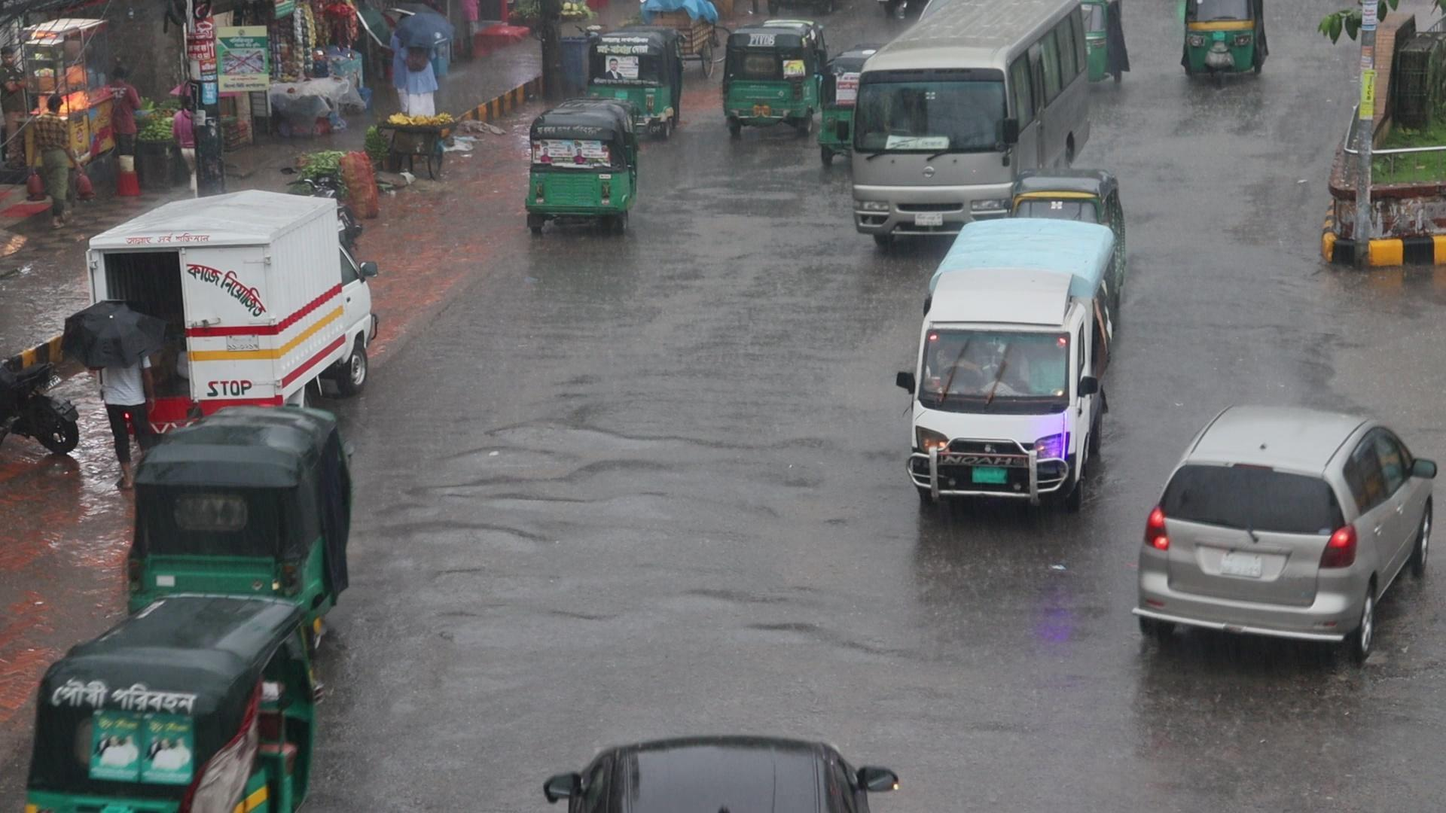Bus: (849, 5, 1087, 248)
Car: (1135, 394, 1441, 689), (913, 208, 1117, 511)
